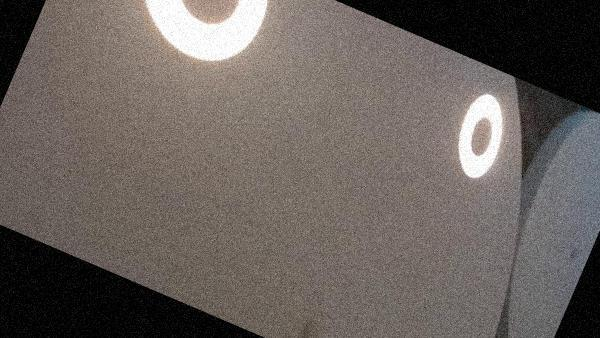light_on: (95, 0, 296, 98), (430, 69, 530, 188)
